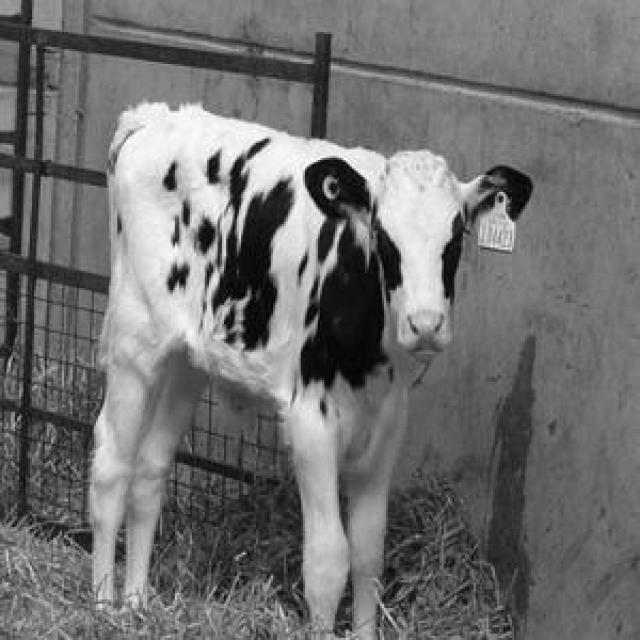cow: (91, 104, 531, 640)
